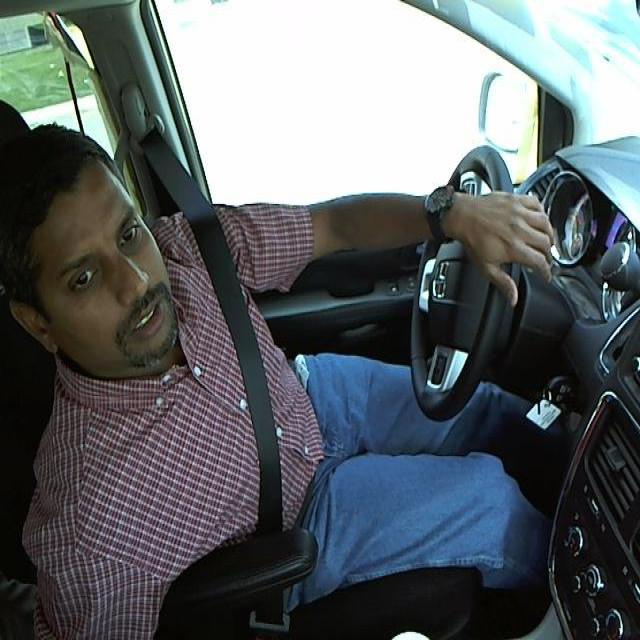seatbelt: (183, 212, 317, 565)
